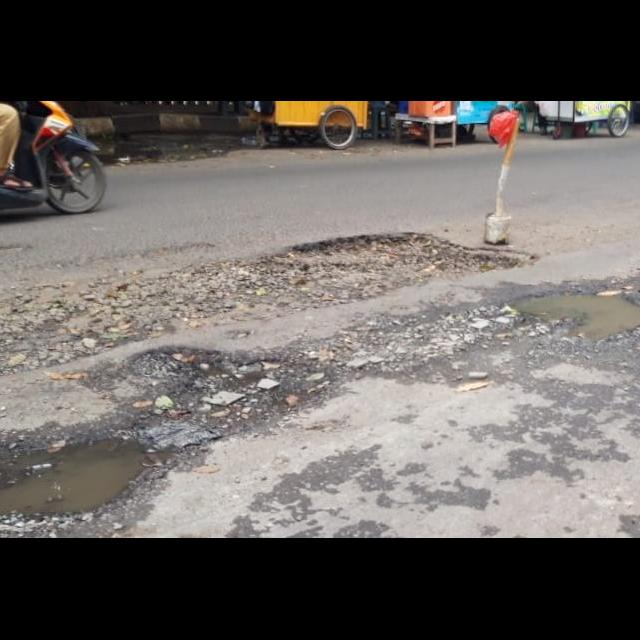lubang_kecil: (0, 213, 515, 344), (139, 330, 336, 450), (0, 406, 164, 538), (482, 273, 640, 362)
